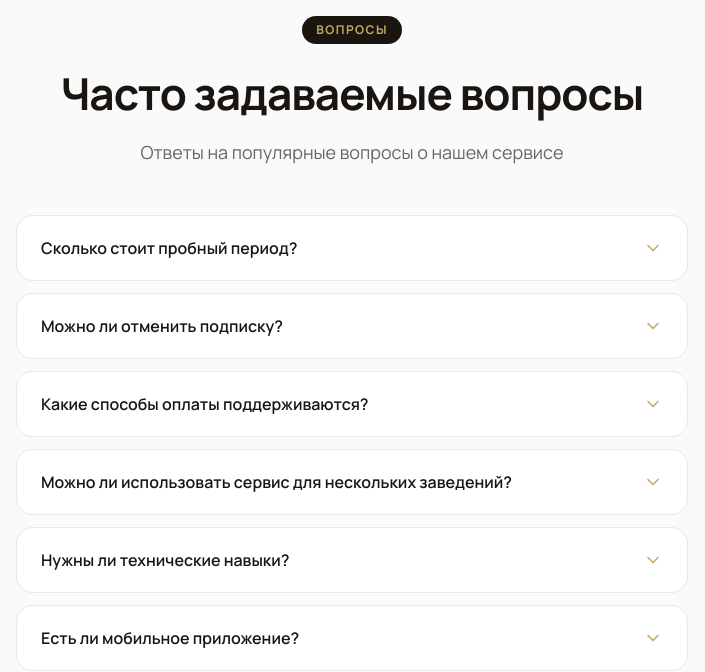
Test: FAQ › opens answer on click
Click the button "Сколько стоит пробный период?". click: (169, 248)
box: [17, 216, 687, 280]
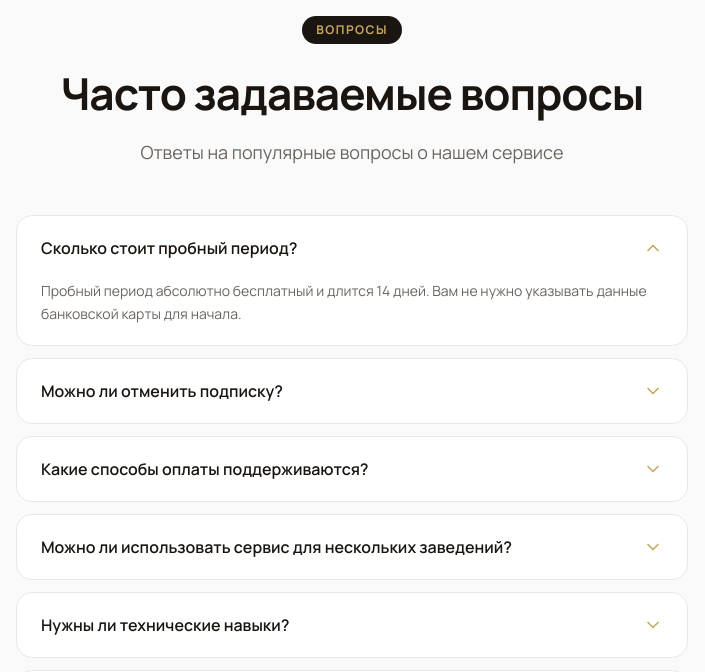
Now the text "абсолютно бесплатный" is shown, box [41, 281, 647, 323]
